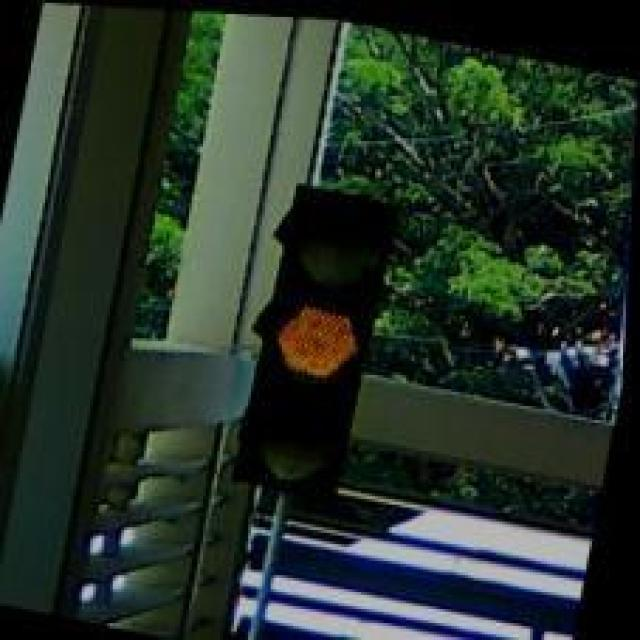yellow_light: (238, 186, 396, 497)
